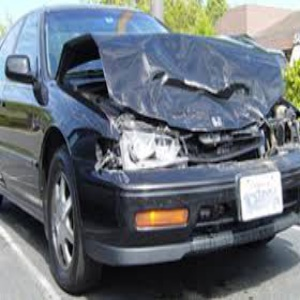bonnet: (80, 28, 283, 119)
head_lights: (108, 116, 192, 172)
